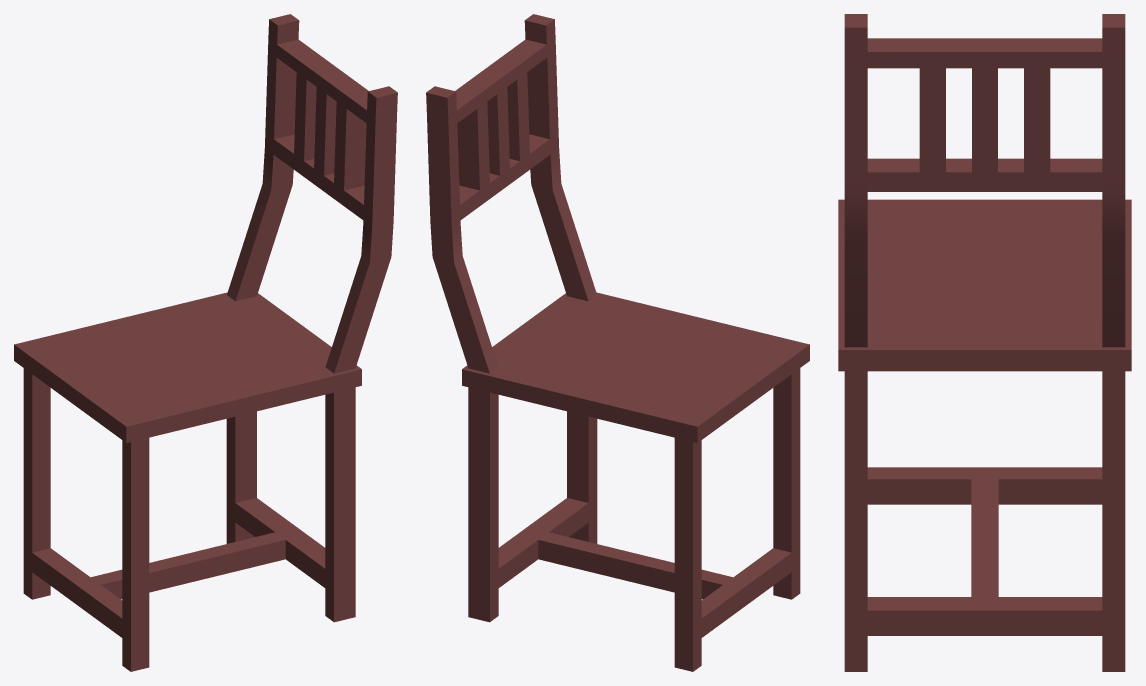
Rendered from Silla.fbx.
The picture shows the model from 3 angles, left to right: view 1: azimuth 30°, elevation 25°; view 2: azimuth 150°, elevation 25°; view 3: azimuth 270°, elevation 25°; orthographic projection. The views are drawn at different scales.
Parts seen in each view (by area): view 1: pCube2; view 2: pCube2; view 3: pCube2.
Boxes of the visible parts, x1,y1,x2,y2 form: pCube2: [14, 14, 397, 671]; pCube2: [426, 14, 809, 671]; pCube2: [838, 14, 1131, 671].
Size of the model in its own units: 0.9142 by 1.64 by 0.6497.
